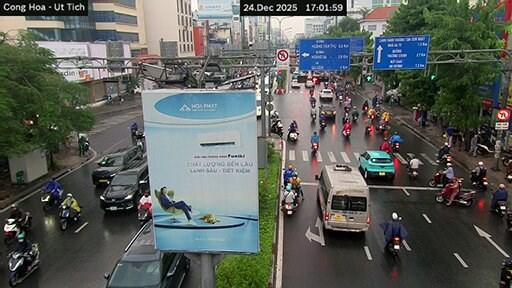motorbike: (8, 243, 39, 286), (4, 212, 31, 244), (59, 205, 79, 230), (41, 189, 62, 211), (4, 218, 19, 244), (470, 172, 488, 191), (453, 191, 475, 206), (387, 236, 401, 255), (281, 200, 298, 214), (428, 171, 443, 186), (138, 206, 151, 223), (271, 119, 283, 136), (493, 201, 506, 216), (476, 144, 494, 154), (283, 202, 297, 214), (501, 150, 511, 166), (407, 165, 417, 179), (439, 153, 451, 164), (377, 122, 388, 133), (506, 209, 511, 230), (288, 131, 297, 141), (391, 142, 399, 152), (310, 108, 316, 121), (311, 142, 318, 153), (505, 171, 511, 182), (342, 129, 350, 137), (106, 95, 113, 104), (338, 94, 343, 105), (365, 125, 371, 133), (320, 120, 325, 129), (362, 106, 368, 113), (352, 115, 357, 121), (310, 101, 315, 107)
